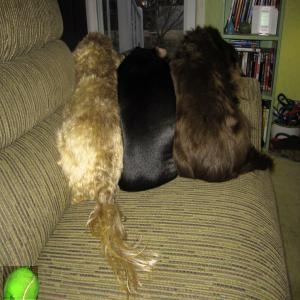TennisBall: (4, 267, 40, 300)
